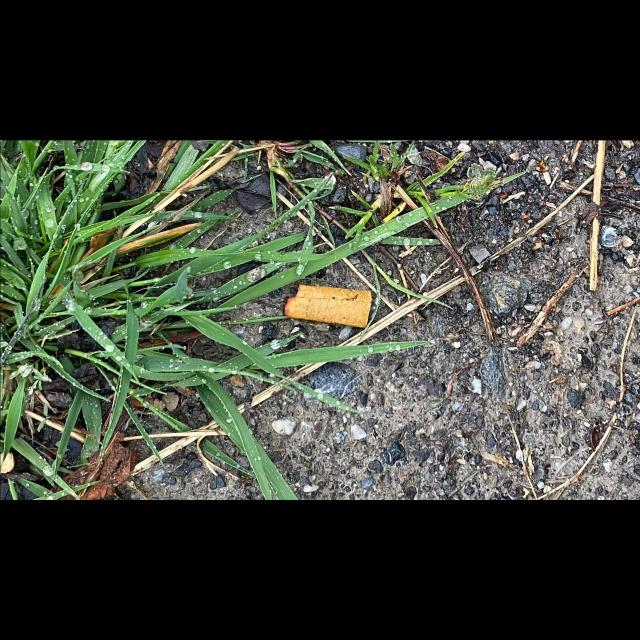cigarette: (280, 283, 372, 329)
